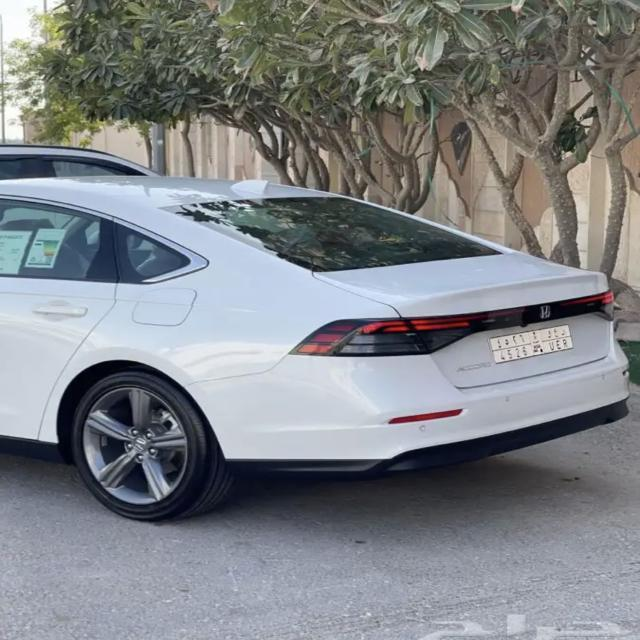license_plate: (487, 324, 573, 370)
